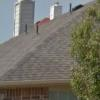Chimney: (10, 2, 39, 37)
